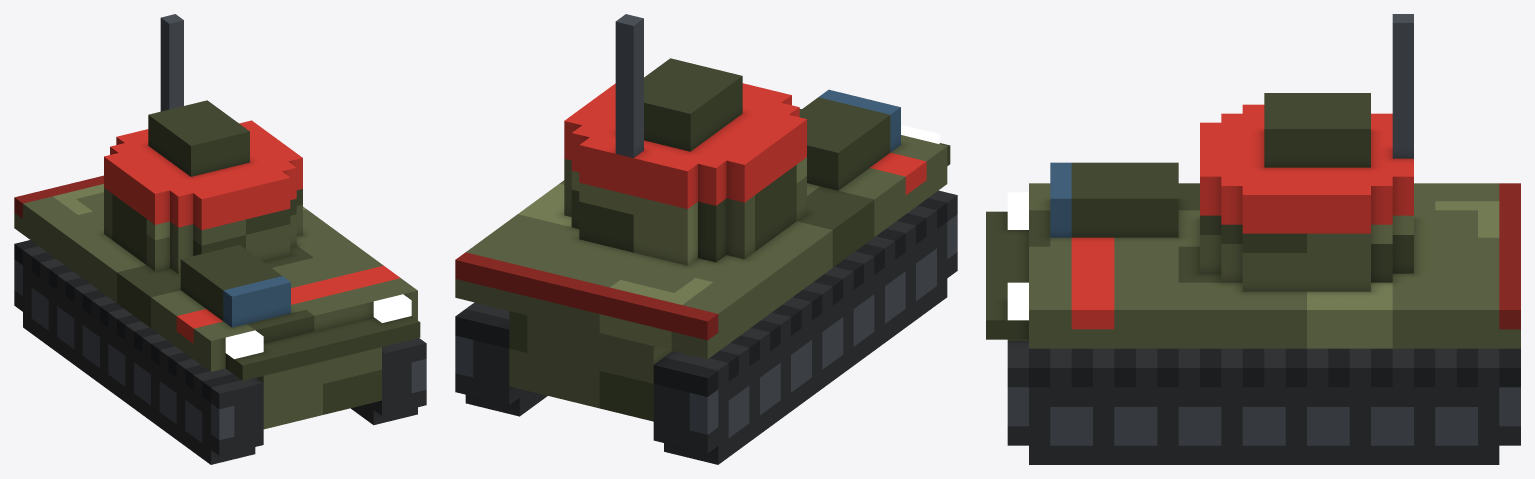
3 views of the same model, side by side, from view 1: azimuth 30°, elevation 25°; view 2: azimuth 150°, elevation 25°; view 3: azimuth 270°, elevation 25° (orthographic). The views are drawn at different scales.
Parts seen in each view (by area): view 1: cm_aa_h_0_body; view 2: cm_aa_h_0_body; view 3: cm_aa_h_0_body.
Boxes of the visible parts, bbox=[...] form: cm_aa_h_0_body: bbox=[14, 14, 426, 464]; cm_aa_h_0_body: bbox=[455, 14, 957, 464]; cm_aa_h_0_body: bbox=[986, 14, 1520, 464].
Size of the model in its own units: 0.875 by 1.25 by 1.56.
Materials: 1 (1 with a texture image).
